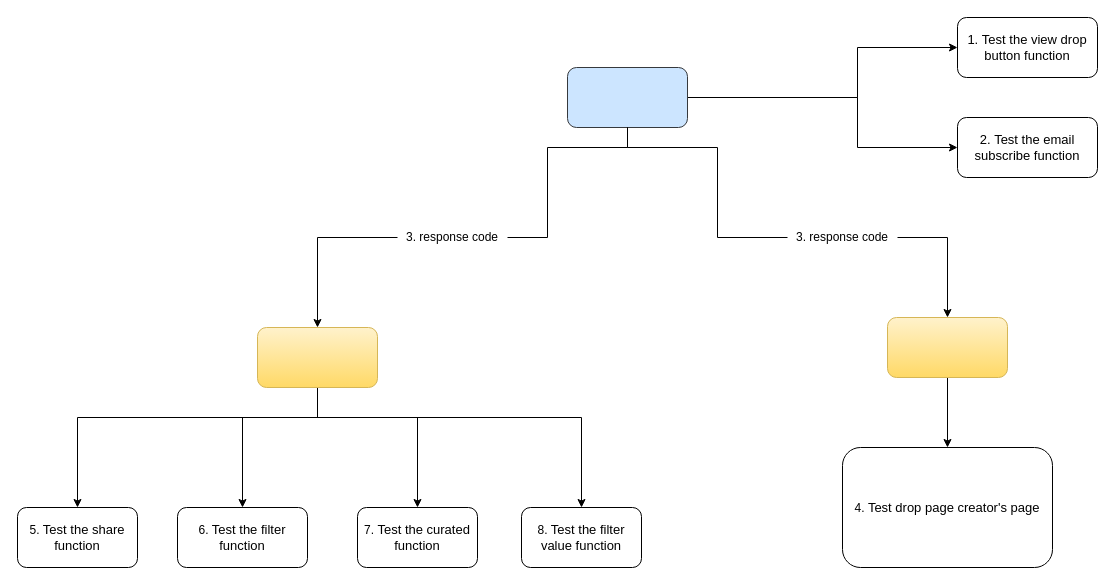
Image size: 1115x585. Some labels were removed from this diagram. The shapes that lost their labels are listed below. From the top down, each one's centre as x and y in pixels, then its label:
point (627, 97): front page
point (317, 357): Marketplace
point (947, 347): Drops
